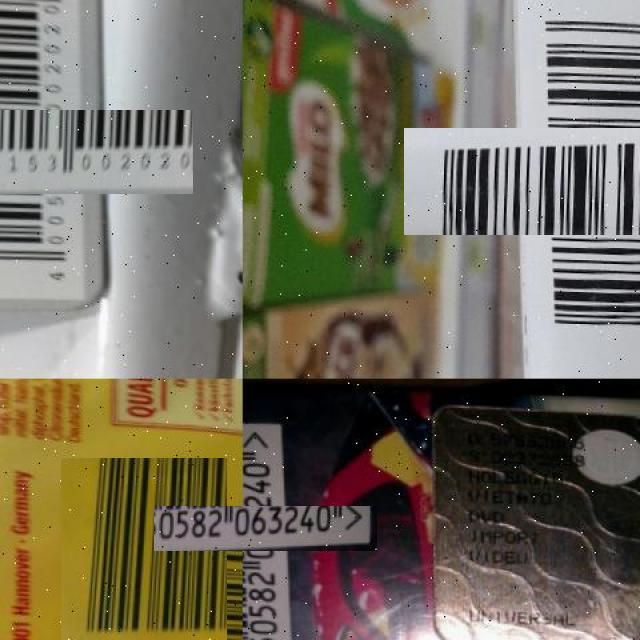Barcode: (468, 64, 640, 300), (52, 466, 235, 640), (0, 56, 139, 249), (199, 461, 333, 596)
